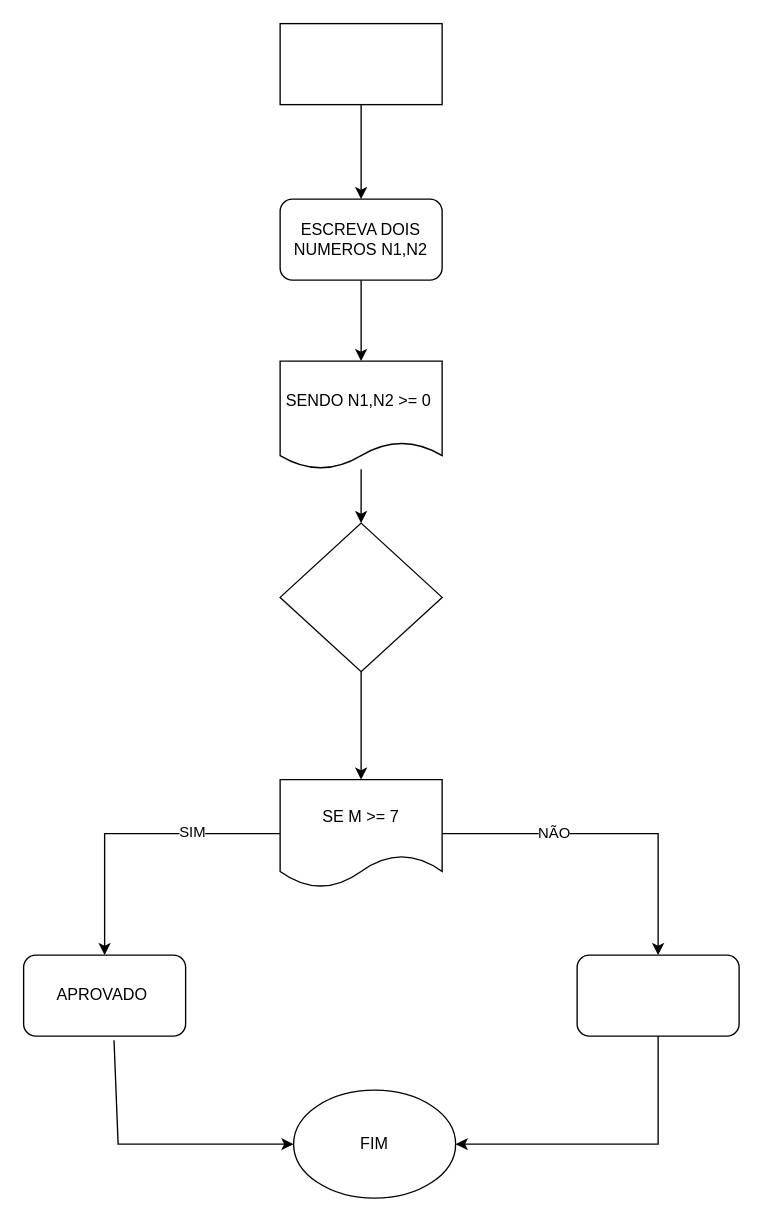
The diagram is 763 pixels wide and 1222 high, and some of its shapes have lost their labels. Here are the shapes that lost their labels. From the top down, the centre of each, then its label:
the point at 360,63: INICIO
the point at 360,597: N1 + N2/ 2 = M
the point at 657,995: REPROVADO
